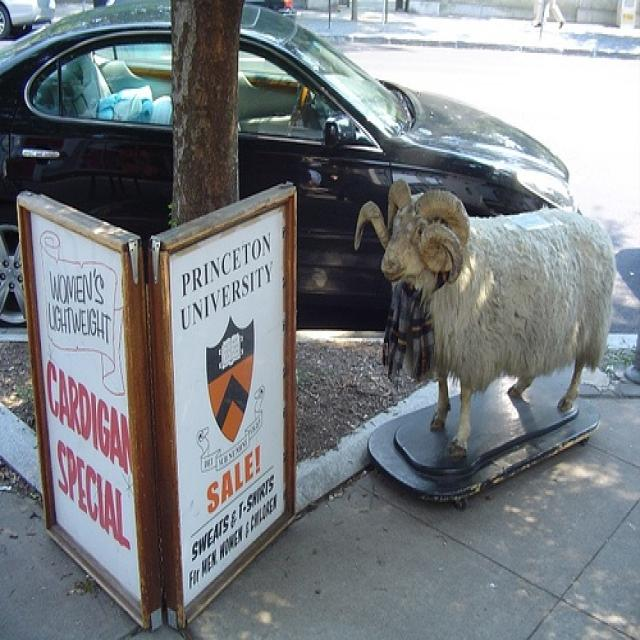car: (0, 1, 576, 328)
sheep: (353, 179, 617, 454)
